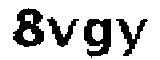8: (9, 2, 45, 48)
g: (79, 16, 117, 60)
v: (46, 14, 79, 50)
y: (116, 11, 151, 60)
